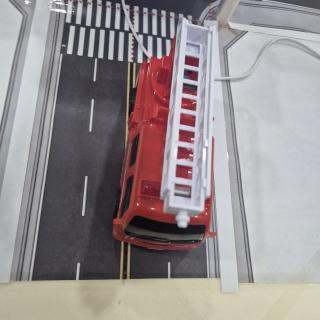Fire_truck: (113, 18, 216, 250)
